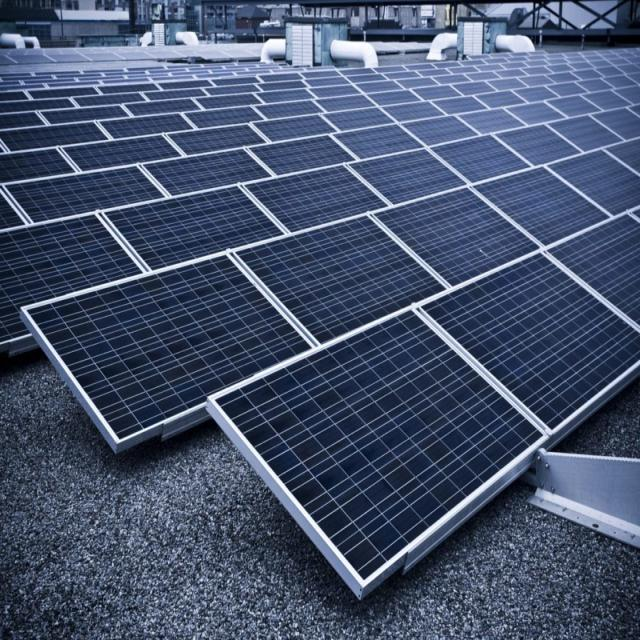clean-solar-panel: (1, 51, 640, 596)
